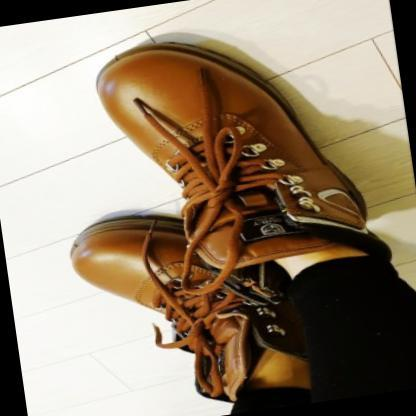safety-shoe: (91, 9, 378, 303), (63, 205, 327, 404)
